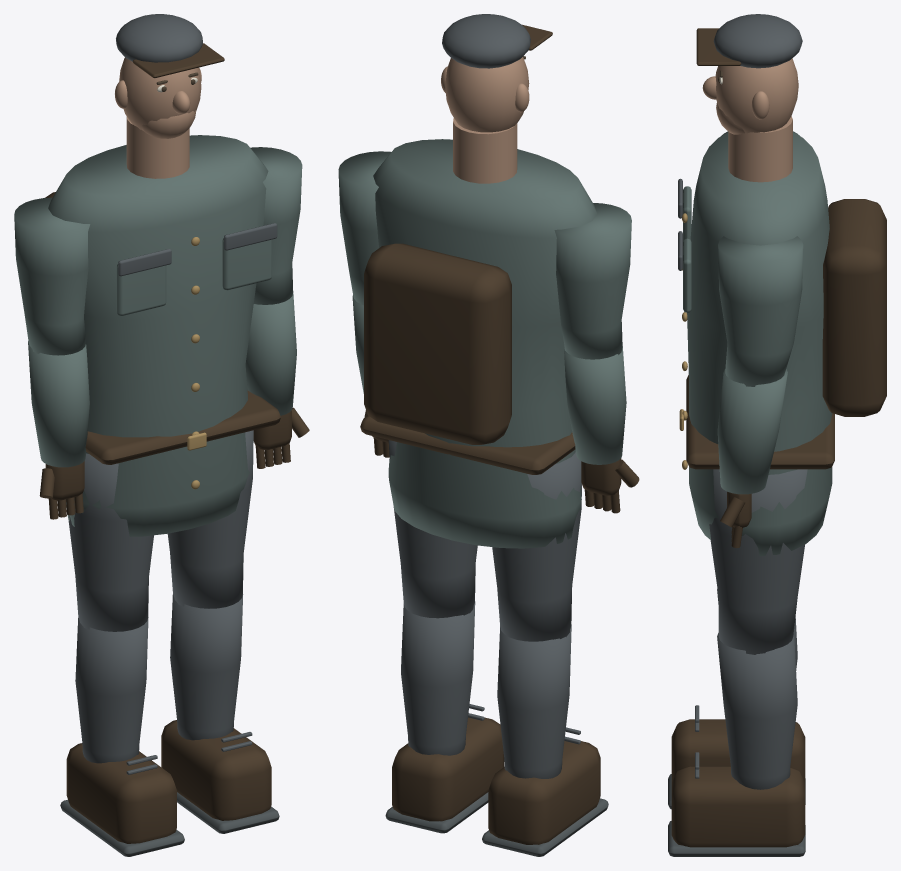
The model's file is rail_worker.glb.
The picture shows the model from 3 angles, left to right: view 1: azimuth 30°, elevation 25°; view 2: azimuth 150°, elevation 25°; view 3: azimuth 270°, elevation 25°; orthographic projection.
Parts seen in each view (by area): view 1: Torso_Mesh, KneeL_Mesh, KneeR_Mesh, LegL_Mesh, ArmL_Mesh, ElbowL_Mesh, LegR_Mesh, ElbowR_Mesh, ArmR_Mesh; view 2: Torso_Mesh, KneeL_Mesh, KneeR_Mesh, ArmL_Mesh, LegL_Mesh, ElbowL_Mesh, LegR_Mesh, ArmR_Mesh, ElbowR_Mesh; view 3: Torso_Mesh, KneeR_Mesh, LegR_Mesh, ArmR_Mesh, ElbowR_Mesh, KneeL_Mesh.
Boxes of the visible parts, x1,y1,x2,y2 form: Torso_Mesh: (45, 14, 280, 536); KneeL_Mesh: (60, 617, 184, 856); KneeR_Mesh: (161, 594, 279, 833); LegL_Mesh: (68, 453, 153, 631); ArmL_Mesh: (14, 197, 90, 355); ElbowL_Mesh: (28, 341, 89, 519); LegR_Mesh: (167, 430, 253, 608); ElbowR_Mesh: (245, 293, 309, 468); ArmR_Mesh: (250, 147, 302, 304); Torso_Mesh: (360, 14, 596, 548); KneeL_Mesh: (482, 624, 608, 856); KneeR_Mesh: (385, 601, 504, 833); ArmL_Mesh: (554, 203, 631, 359); LegL_Mesh: (492, 452, 581, 641); ElbowL_Mesh: (564, 346, 639, 513); LegR_Mesh: (388, 440, 477, 618); ArmR_Mesh: (338, 151, 391, 305); ElbowR_Mesh: (352, 295, 389, 457); Torso_Mesh: (678, 14, 886, 556); KneeR_Mesh: (668, 633, 805, 856); LegR_Mesh: (709, 469, 807, 654); ArmR_Mesh: (718, 236, 803, 386); ElbowR_Mesh: (717, 369, 787, 548); KneeL_Mesh: (668, 589, 805, 809).
Size of the model in its own units: 0.654 by 1.78 by 0.442.
